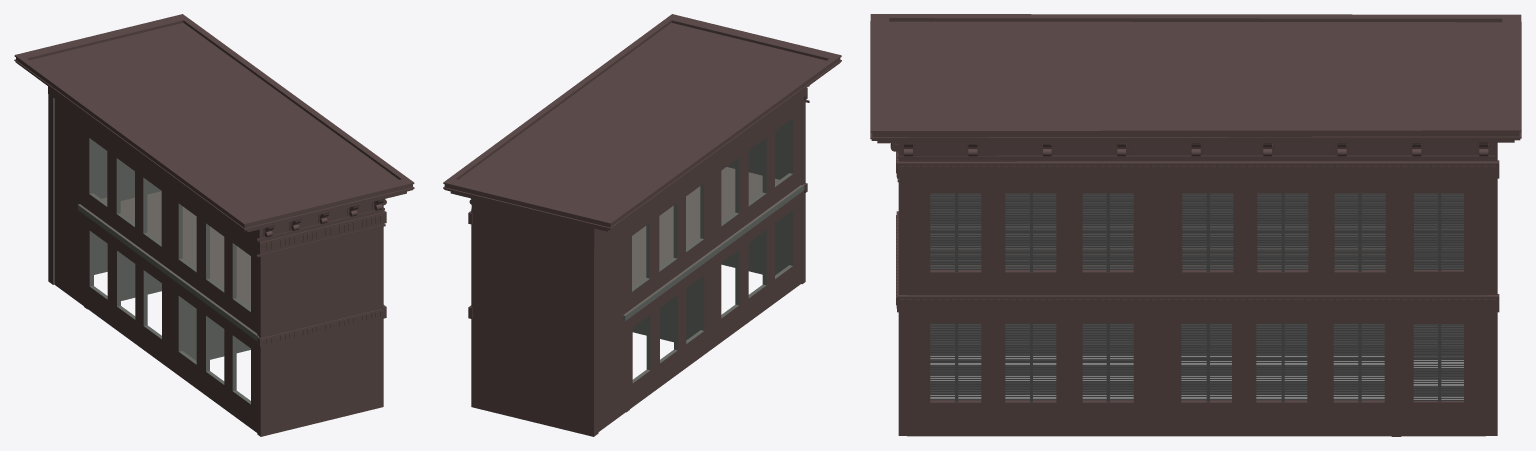
Rendered from HouseEmpty.fbx.
The picture shows the model from 3 angles, left to right: view 1: azimuth 30°, elevation 25°; view 2: azimuth 150°, elevation 25°; view 3: azimuth 270°, elevation 25°; orthographic projection. The views are drawn at different scales.
Parts seen in each view (by area): view 1: polySurface3056; view 2: polySurface3056; view 3: polySurface3056.
Boxes of the visible parts, x1,y1,x2,y2 form: polySurface3056: (14, 14, 414, 436); polySurface3056: (443, 14, 841, 436); polySurface3056: (870, 14, 1521, 436).
Size of the model in its own units: 9.48 by 12.09 by 22.29.
